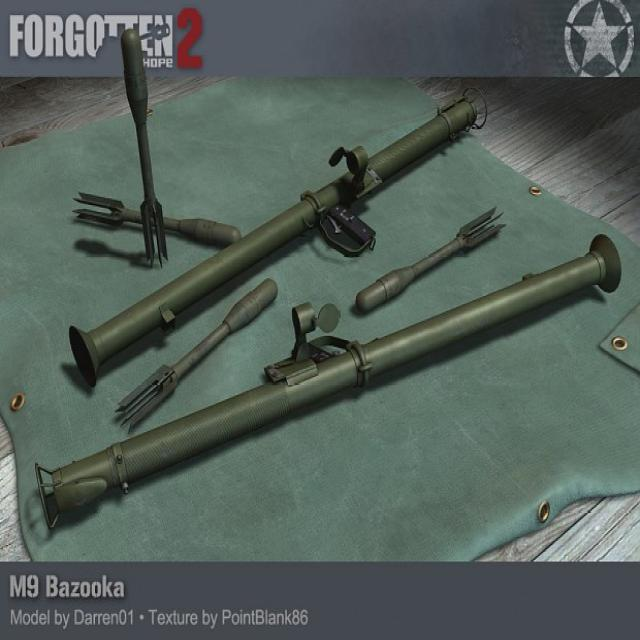bazooka: (38, 88, 630, 540)
